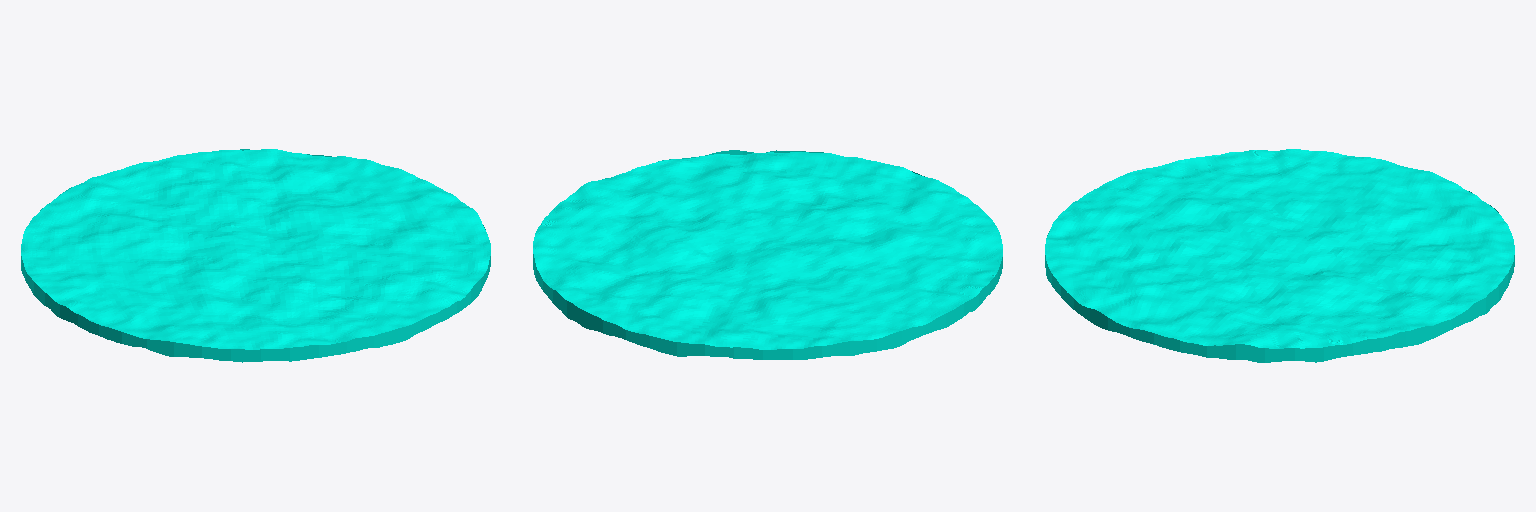
The model's file is water.obj.
3 renders of one model, left to right at view 1: azimuth 30°, elevation 25°; view 2: azimuth 150°, elevation 25°; view 3: azimuth 270°, elevation 25°, orthographic.
Parts seen in each view (by area): view 1: Cylinder.001; view 2: Cylinder.001; view 3: Cylinder.001.
Boxes of the visible parts, box(x1,y1,x2,y2) form: Cylinder.001: box(21, 149, 490, 362); Cylinder.001: box(533, 150, 1002, 359); Cylinder.001: box(1045, 149, 1514, 362).
Bounding box in the file's own units: 33.93 × 1.65 × 34.